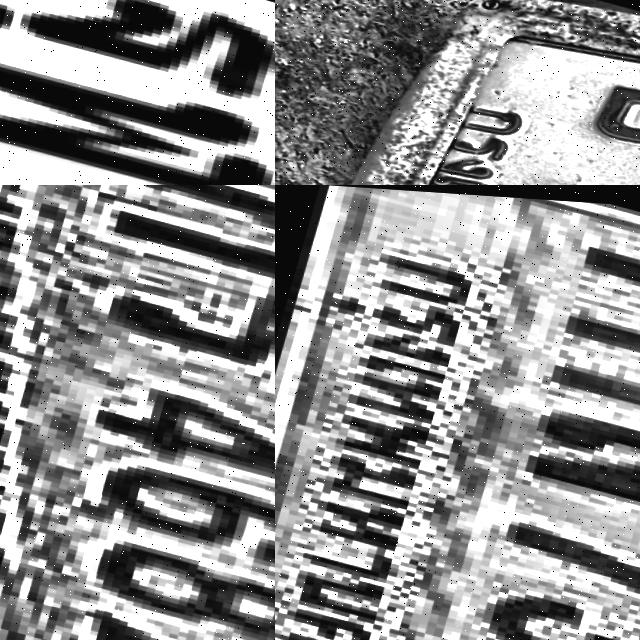license-plate: (275, 185, 640, 640), (0, 185, 275, 640), (275, 0, 640, 185), (0, 0, 275, 185)
